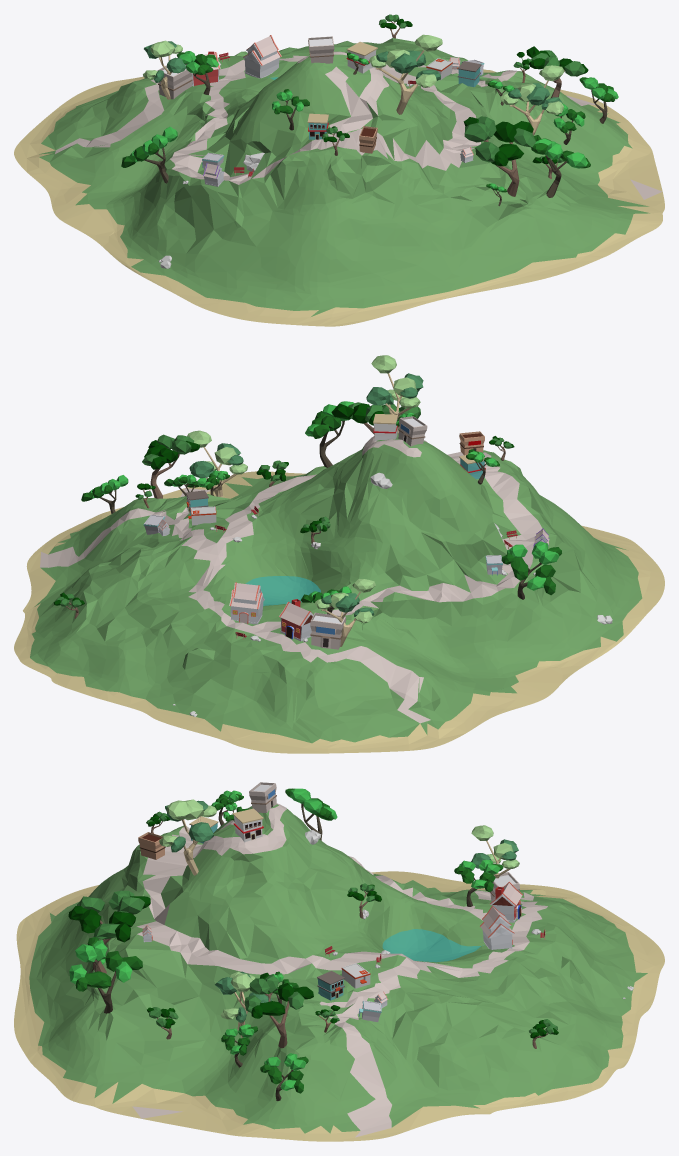
The model's file is landscape.dae.
3 views of the same model, one above another, from view 1: azimuth 30°, elevation 25°; view 2: azimuth 150°, elevation 25°; view 3: azimuth 270°, elevation 25° (orthographic). The views are drawn at different scales.
Parts seen in each view (by area): view 1: Plane_003, Icosphere_001, Cube_013, Cube_012, Icosphere_029, Cube, Cube_014, Icosphere_027, Icosphere_026, Icosphere_025, Icosphere_013, Cube_002 (+6 smaller); view 2: Plane_003, Icosphere_027, Cube_013, Cube_012, Icosphere_026, Cube_014, Cylinder, Cube, Icosphere_029, Icosphere_001, Cube_002, Cube_006 (+3 smaller); view 3: Plane_003, Icosphere_001, Icosphere_029, Icosphere_026, Cylinder, Cube_013, Icosphere_013, Cube_012, Cube_014, Cube, Icosphere_025, Icosphere_027 (+7 smaller).
Boxes of the visible parts, <box> form: Plane_003: <box>14,38,664,326</box>; Icosphere_001: <box>463,116,535,196</box>; Cube_013: <box>369,34,442,114</box>; Cube_012: <box>500,65,564,135</box>; Icosphere_029: <box>531,135,590,197</box>; Cube: <box>243,35,281,78</box>; Cube_014: <box>143,40,185,99</box>; Icosphere_027: <box>121,126,177,183</box>; Icosphere_026: <box>526,46,588,97</box>; Icosphere_025: <box>177,51,218,94</box>; Icosphere_013: <box>579,77,618,123</box>; Cube_002: <box>157,64,192,99</box>; Plane_003: <box>14,433,664,753</box>; Icosphere_027: <box>501,541,561,599</box>; Cube_013: <box>366,355,423,433</box>; Cube_012: <box>187,430,247,497</box>; Icosphere_026: <box>142,434,199,498</box>; Cube_014: <box>314,579,375,646</box>; Cylinder: <box>245,576,320,606</box>; Cube: <box>229,582,264,624</box>; Icosphere_029: <box>305,401,354,467</box>; Icosphere_001: <box>331,402,420,434</box>; Cube_002: <box>310,612,345,649</box>; Cube_006: <box>279,599,313,641</box>; Plane_003: <box>14,803,664,1141</box>; Icosphere_001: <box>68,890,150,973</box>; Icosphere_029: <box>69,937,142,1013</box>; Icosphere_026: <box>244,972,313,1048</box>; Cylinder: <box>382,929,483,962</box>; Cube_013: <box>159,799,216,875</box>; Icosphere_013: <box>260,1053,308,1100</box>; Cube_012: <box>215,971,271,1037</box>; Cube_014: <box>471,825,519,878</box>; Cube: <box>480,905,514,949</box>; Icosphere_025: <box>454,860,503,906</box>; Icosphere_027: <box>285,788,337,840</box>.
Bounding box in the file's own units: 39.8 × 40.45 × 14.13.
